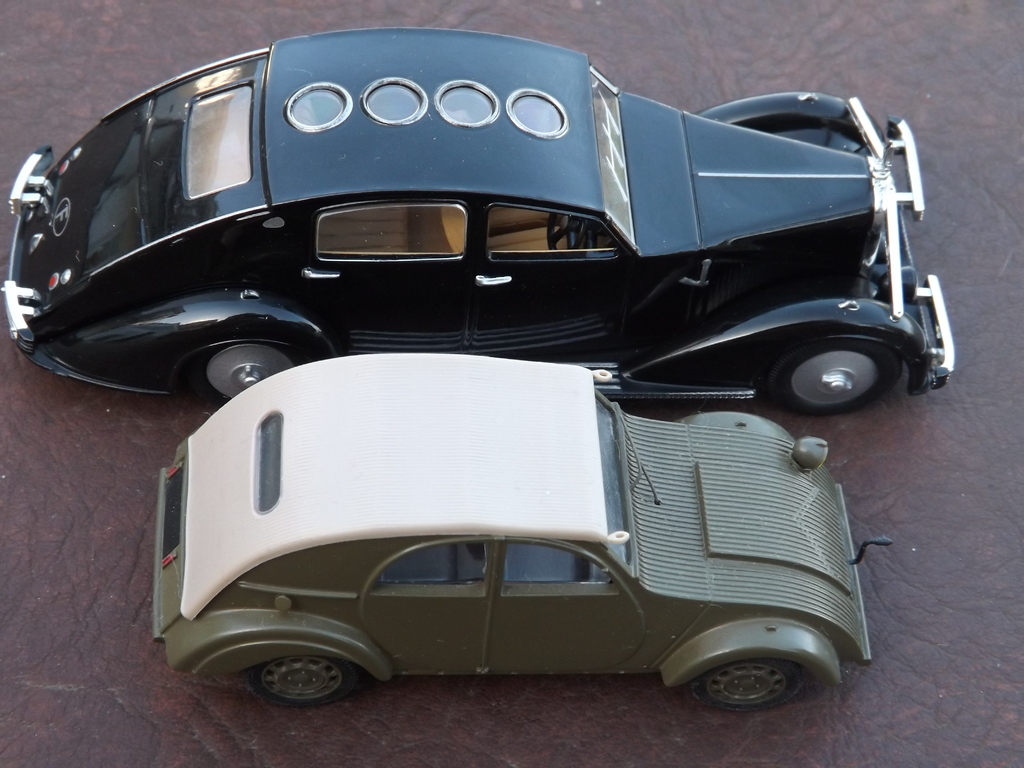Car: (6, 25, 957, 417), (151, 350, 897, 718)
